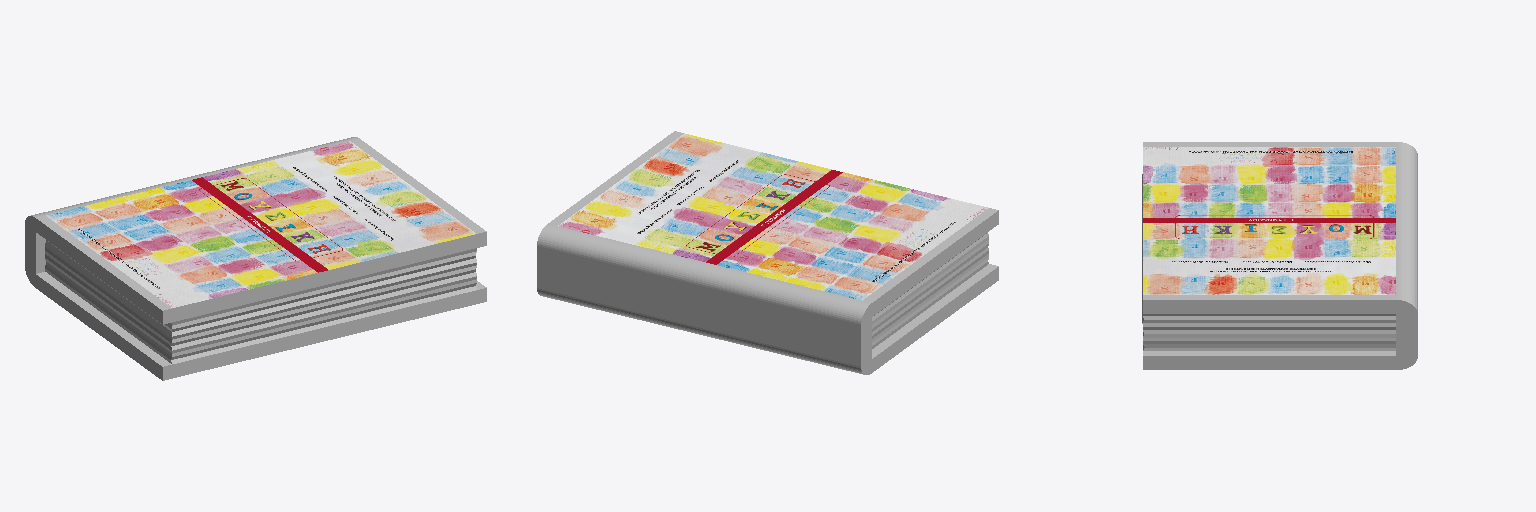
3 renders of one model, left to right at view 1: azimuth 30°, elevation 25°; view 2: azimuth 150°, elevation 25°; view 3: azimuth 270°, elevation 25°, orthographic.
Visible parts, largest first — view 1: Cube_3, Cube_1, Cube_2; view 2: Cube_3, Cube_1, Cube_2; view 3: Cube_3, Cube_1, Cube_2.
Boxes of the visible parts, x1,y1,x2,y2 form: Cube_3: [46, 141, 475, 307]; Cube_1: [25, 137, 486, 380]; Cube_2: [45, 240, 476, 363]; Cube_3: [558, 133, 987, 300]; Cube_1: [537, 131, 998, 374]; Cube_2: [872, 233, 988, 348]; Cube_3: [1143, 147, 1395, 294]; Cube_1: [1143, 142, 1417, 369]; Cube_2: [1142, 174, 1395, 350].
Size of the model in its own units: 186 by 38.44 by 137.
Materials: 3 (1 with a texture image).